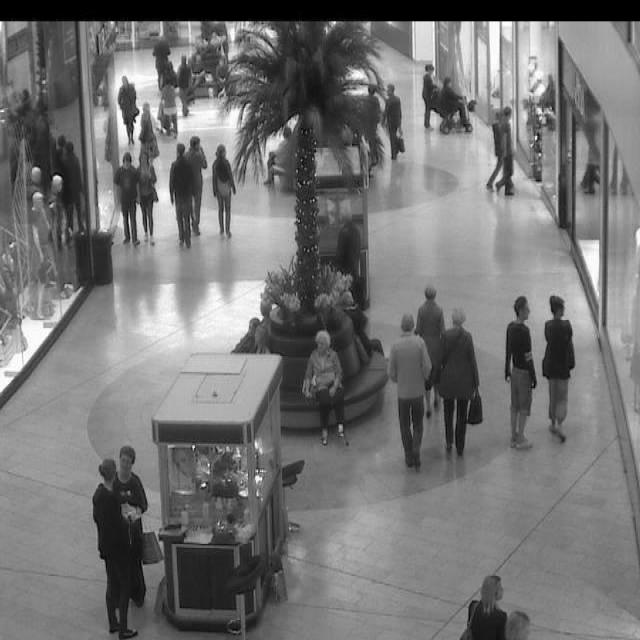person: (378, 307, 434, 473), (91, 450, 137, 640), (116, 441, 156, 611), (300, 325, 352, 451), (436, 305, 478, 459), (502, 283, 540, 452), (543, 282, 576, 446), (414, 283, 446, 421), (460, 565, 504, 640), (168, 140, 195, 249), (112, 150, 140, 246), (132, 151, 160, 245), (440, 67, 478, 136), (382, 71, 409, 161), (110, 69, 140, 148), (495, 594, 546, 640), (186, 133, 204, 236), (487, 104, 508, 192), (154, 73, 182, 136), (215, 138, 232, 238), (136, 96, 160, 163), (364, 81, 382, 159), (418, 61, 438, 128), (502, 106, 516, 198), (173, 56, 194, 108), (253, 323, 276, 365), (152, 34, 170, 82), (244, 316, 262, 345)
